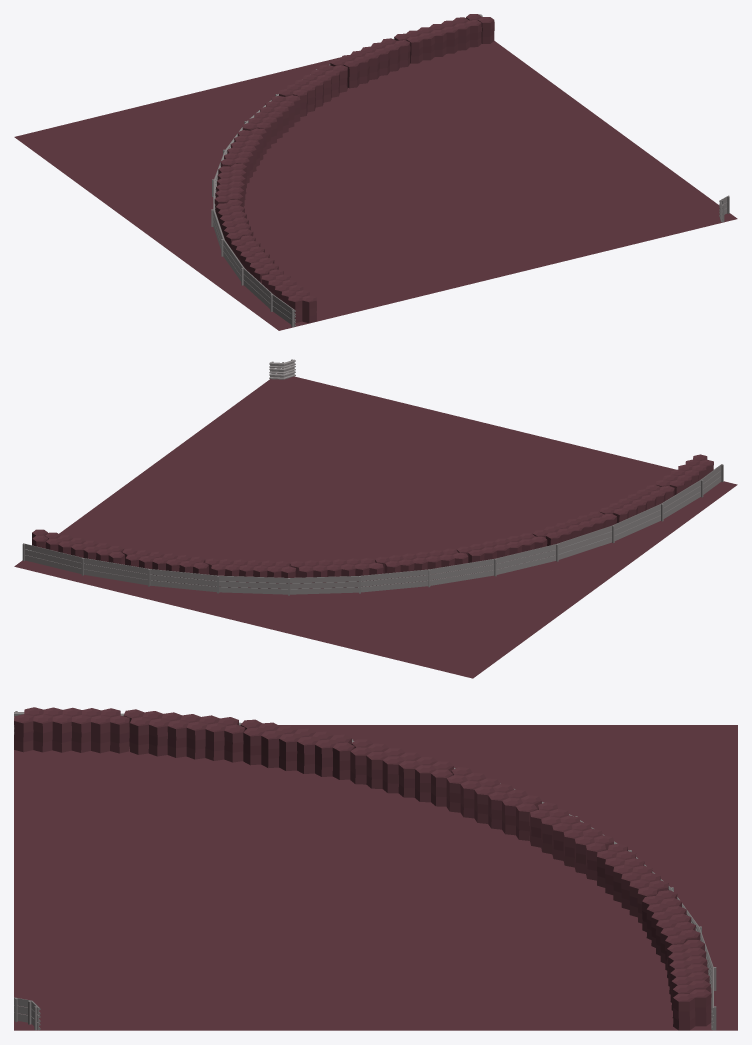
The model's file is tile-race-track-curve-nb.fbx.
3 views of the same model, one above another, from view 1: azimuth 30°, elevation 25°; view 2: azimuth 150°, elevation 25°; view 3: azimuth 270°, elevation 25° (orthographic). The views are drawn at different scales.
Visible parts, largest first — view 1: tile-race-track-curve-nb; view 2: tile-race-track-curve-nb; view 3: tile-race-track-curve-nb.
Boxes of the visible parts, <box> form: tile-race-track-curve-nb: <box>14,14,737,330</box>; tile-race-track-curve-nb: <box>14,359,737,678</box>; tile-race-track-curve-nb: <box>14,707,737,1030</box>.
Bounding box in the file's own units: 30 × 1.32 × 30.
